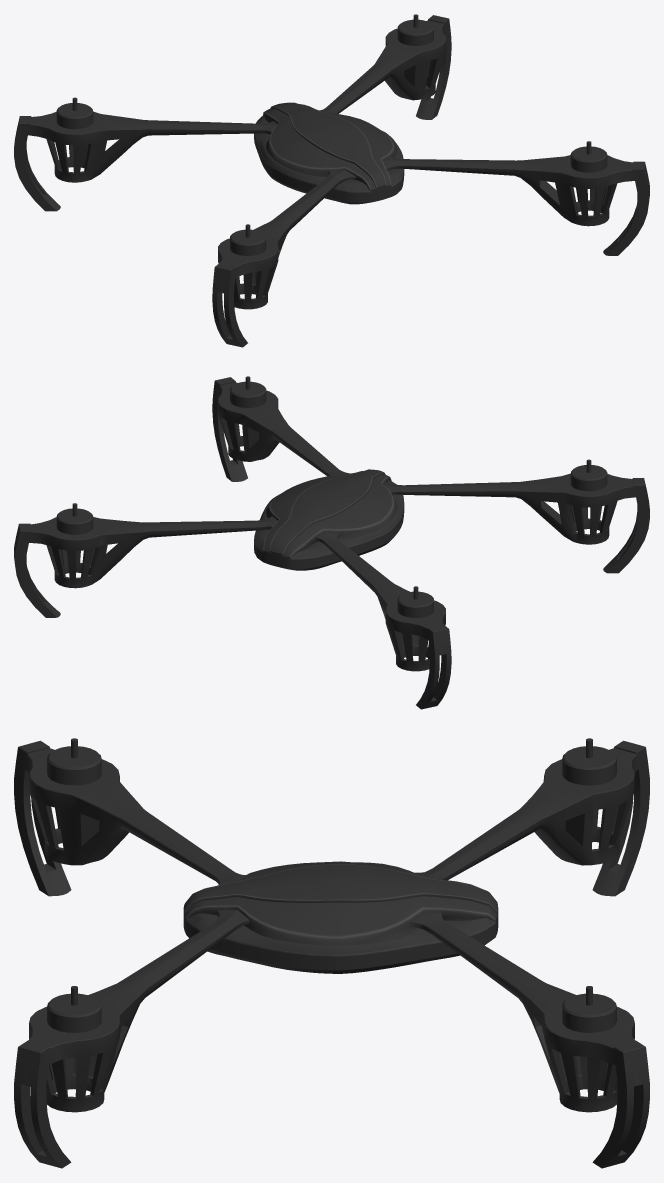
The model's file is Aircraft_ver1.fbx.
The picture shows the model from 3 angles, top to bottom: view 1: azimuth 30°, elevation 25°; view 2: azimuth 150°, elevation 25°; view 3: azimuth 270°, elevation 25°; orthographic projection. The views are drawn at different scales.
Visible parts, largest first — view 1: Base; view 2: Base; view 3: Base.
Part boxes in pixels (x1,y1,x2,y2): Base: [14, 14, 649, 347]; Base: [14, 376, 649, 709]; Base: [14, 738, 649, 1168].
Bounding box in the file's own units: 145 × 34.51 × 122.
Materials: 1 (1 with a texture image).
